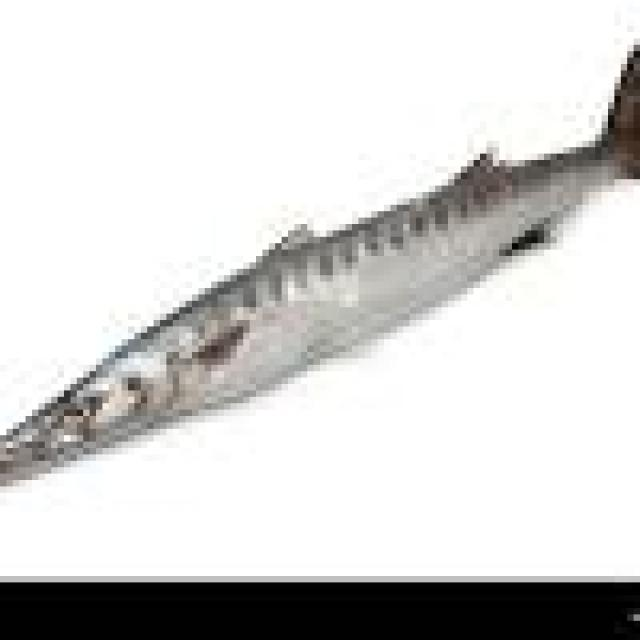Barracuda: (6, 45, 640, 486)
